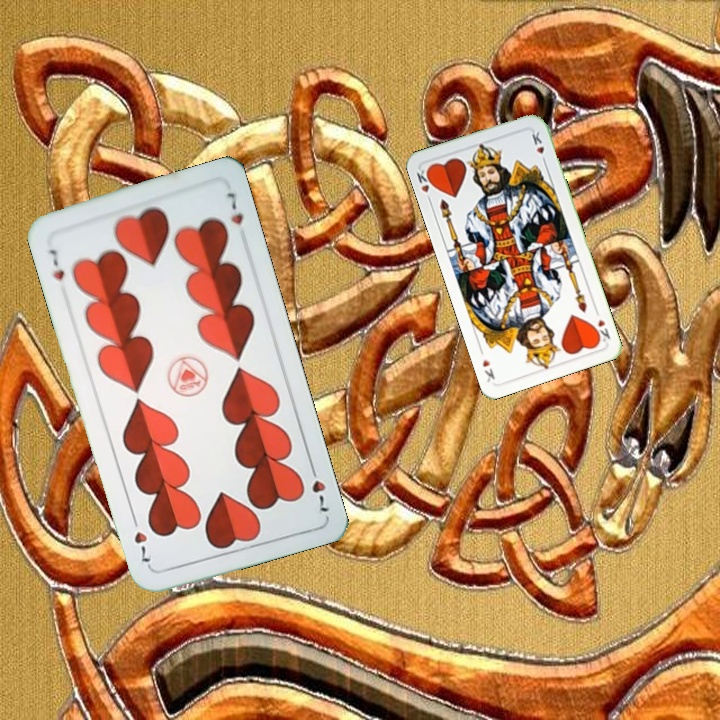H7: (305, 459, 331, 515), (45, 245, 68, 283)
HK: (412, 163, 437, 205), (590, 305, 613, 344)
